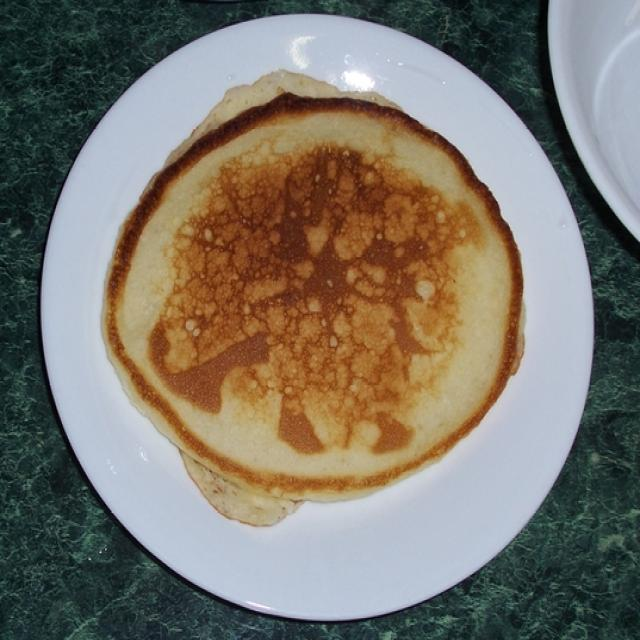蛋糕甜品: (107, 86, 520, 514)
